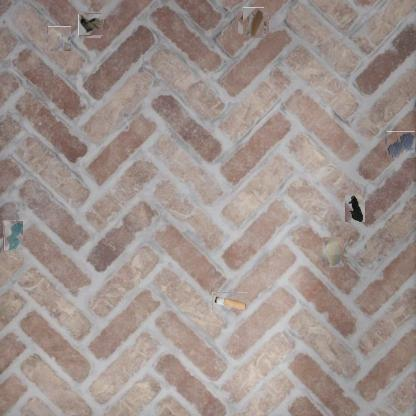dirty: (240, 10, 267, 36), (320, 239, 346, 265), (212, 292, 248, 310), (47, 26, 71, 51), (345, 194, 365, 222), (79, 14, 102, 37)
liquid: (386, 131, 416, 158), (4, 221, 24, 250)
